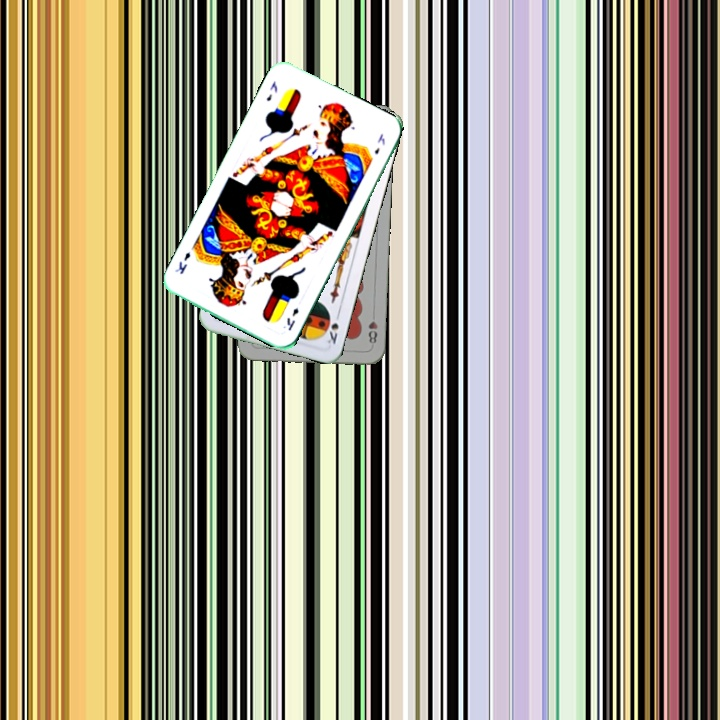EK: (283, 303, 301, 333), (262, 77, 280, 104)
H8: (364, 308, 380, 346)
SK: (322, 308, 343, 347)
